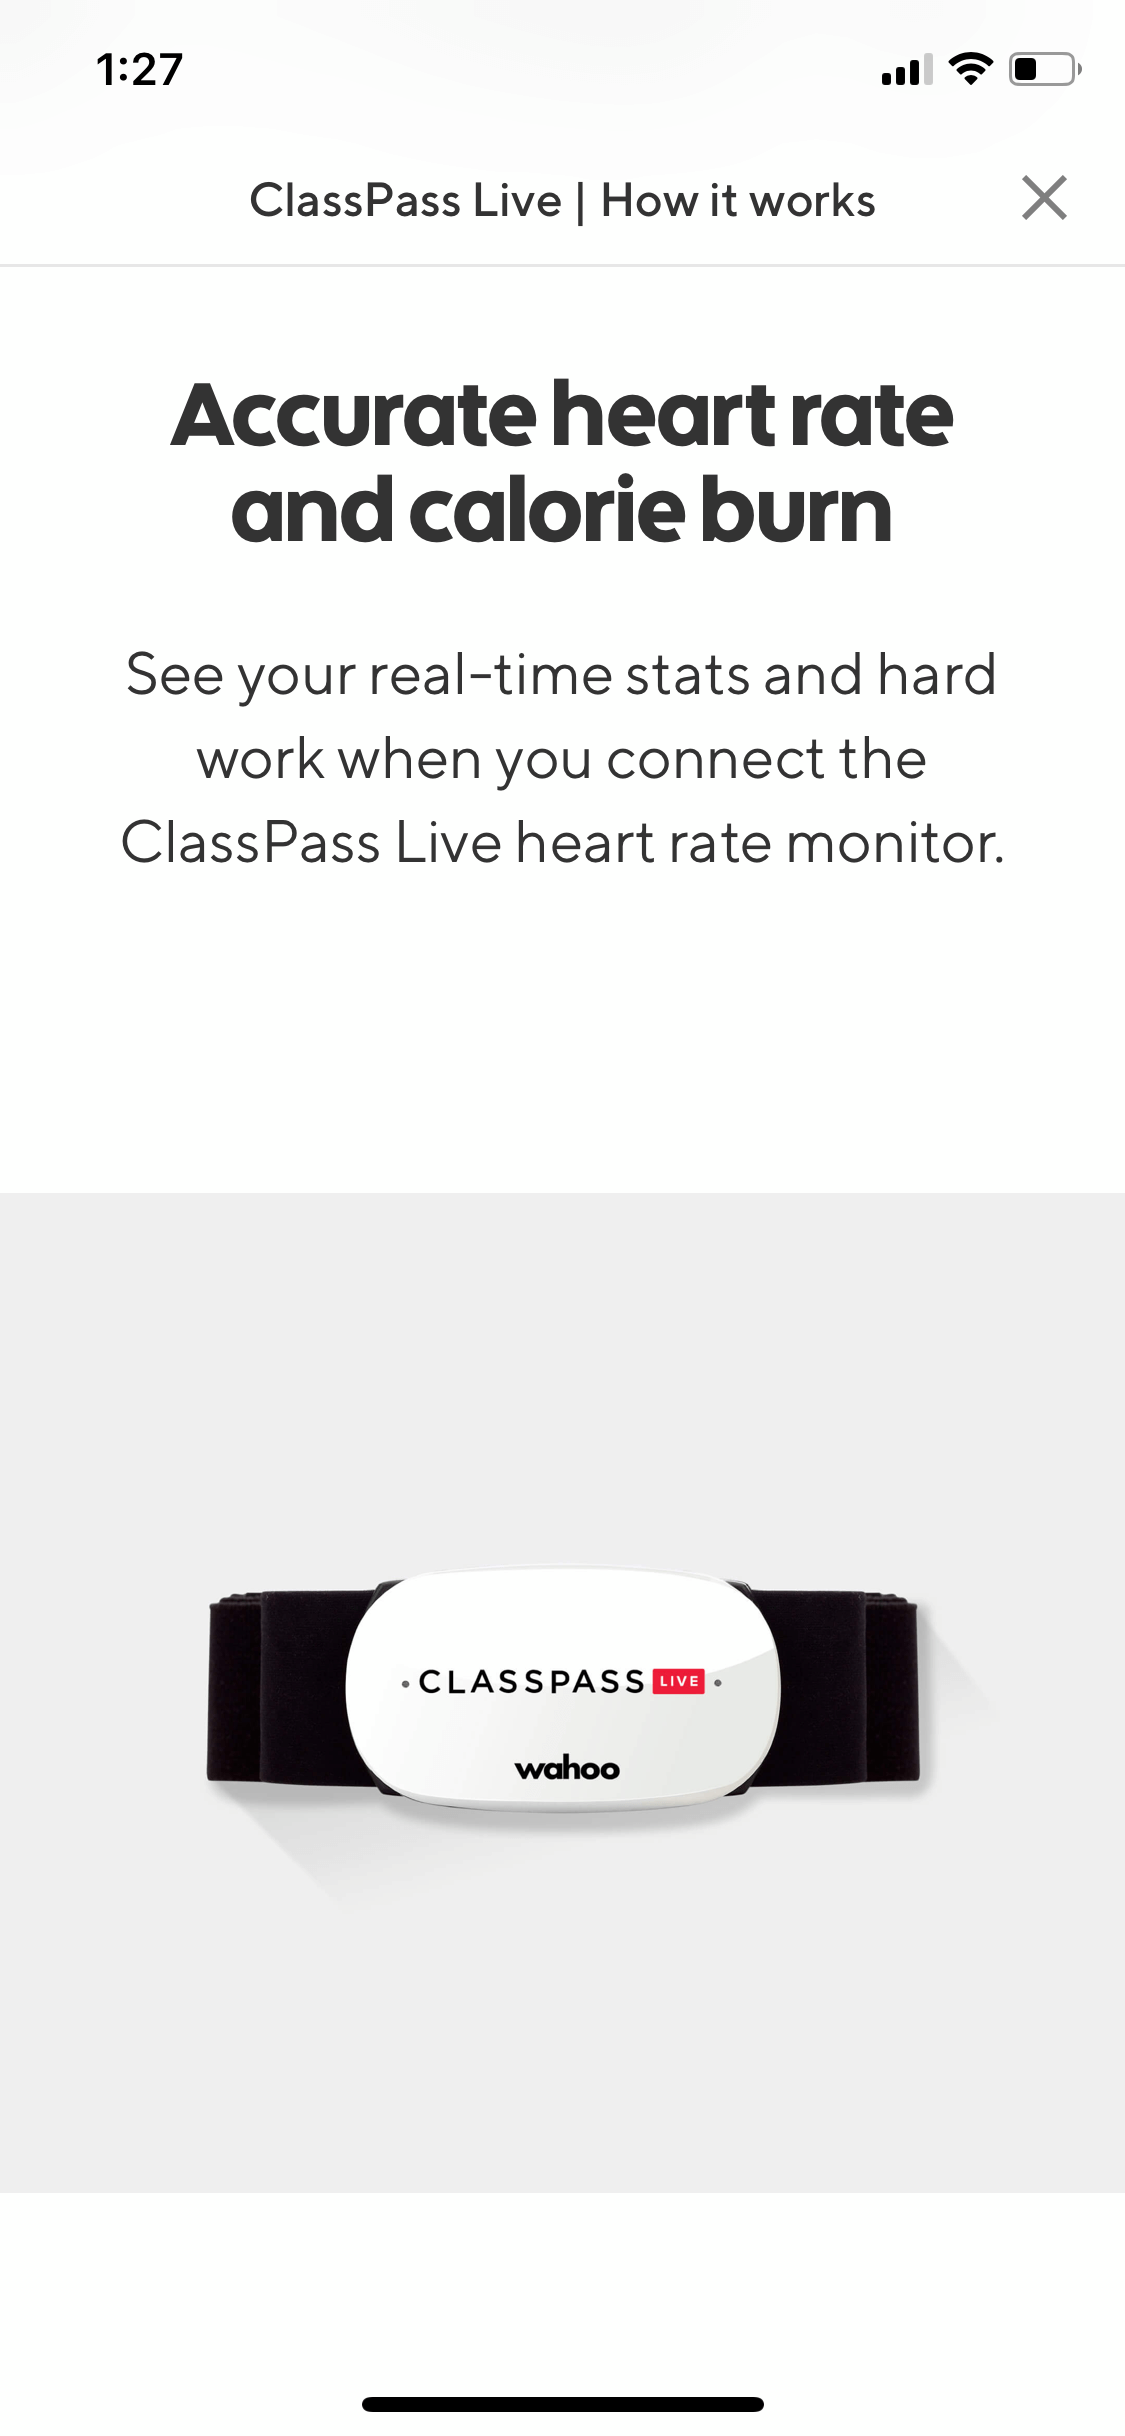Buttons: (976, 143, 1099, 249)
